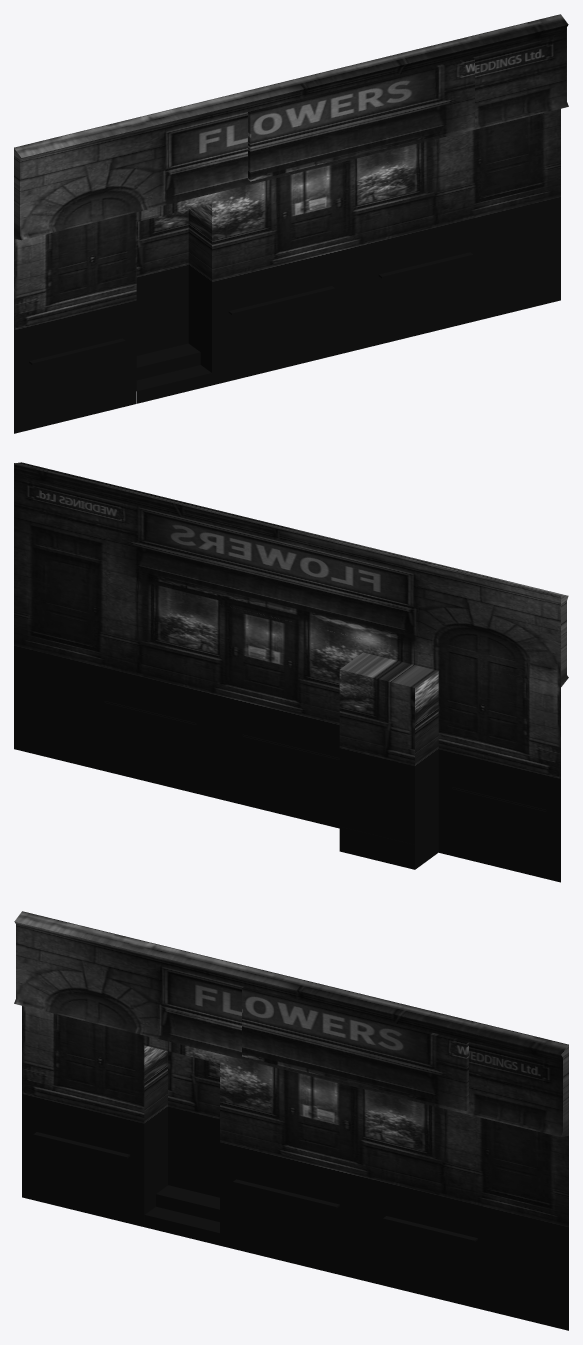
Rendered from shop.obj.
3 renders of one model, top to bottom at view 1: azimuth 30°, elevation 25°; view 2: azimuth 150°, elevation 25°; view 3: azimuth 330°, elevation 25°, orthographic.
Visible parts, largest first — view 1: group; view 2: group; view 3: group.
Part boxes in pixels (box(x1,y1,x2,y2)): group: box(14, 14, 568, 433); group: box(14, 462, 568, 882); group: box(14, 911, 568, 1330).
Size of the model in its own units: 10 by 5 by 1.
